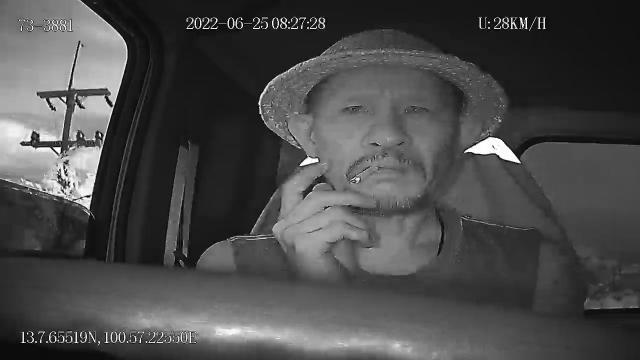SafeDriving: (396, 93, 438, 122), (336, 94, 375, 120)
Smoking: (348, 162, 382, 186)
